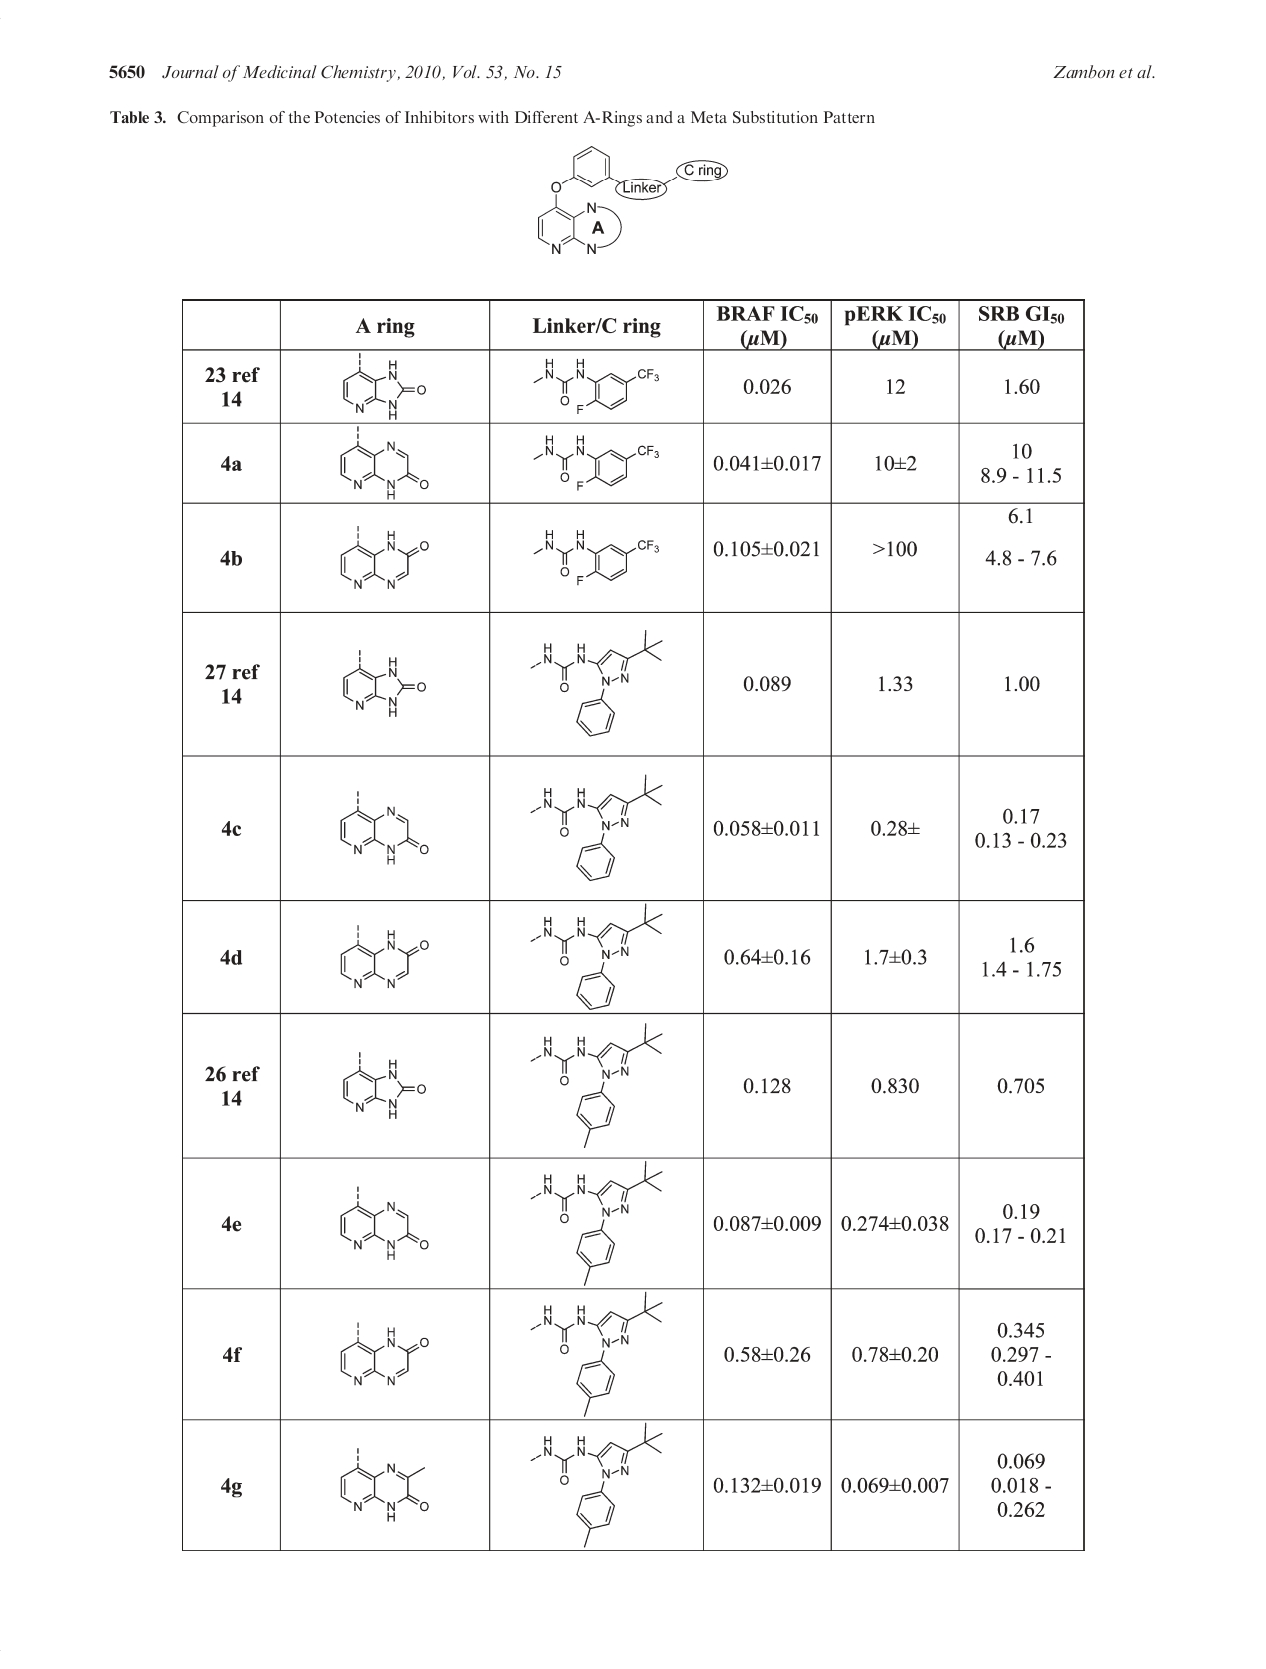exist_molecular: (535, 145, 729, 255), (531, 1291, 666, 1418), (531, 1021, 664, 1149), (529, 1422, 664, 1548), (531, 1160, 664, 1286), (528, 902, 665, 1011), (531, 773, 664, 883), (531, 629, 664, 737), (533, 355, 660, 418), (532, 432, 660, 491), (535, 528, 662, 586), (340, 1446, 430, 1523), (340, 790, 430, 866), (340, 1185, 430, 1261), (340, 426, 430, 500), (340, 352, 428, 422), (339, 524, 430, 590), (340, 1321, 431, 1387), (342, 1051, 427, 1120), (340, 924, 430, 989), (342, 649, 427, 717)
